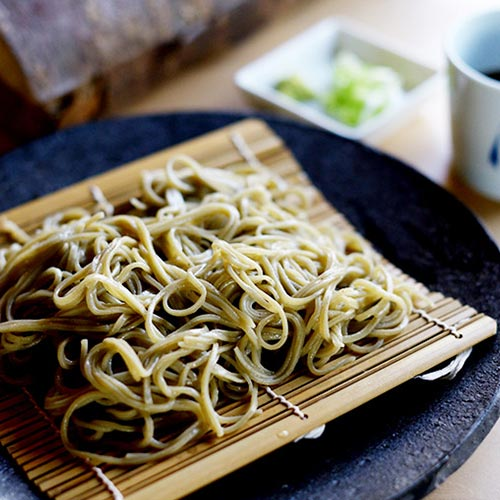Soba: (16, 148, 409, 450)
